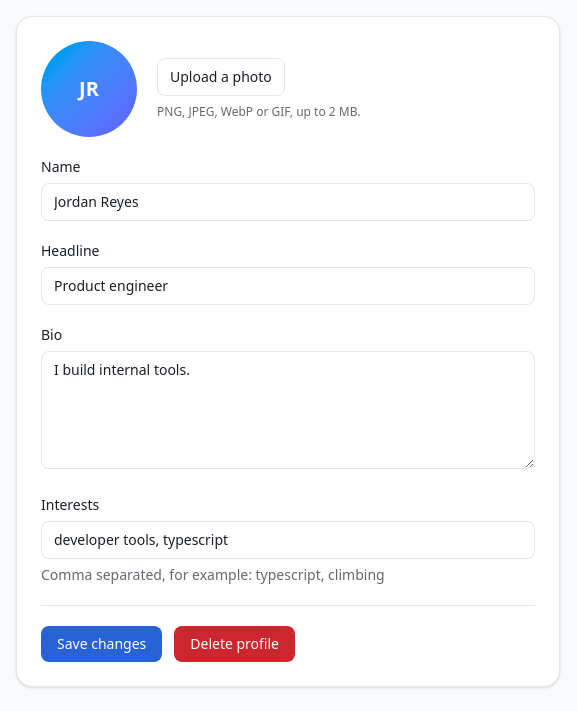
Test case: profile page › renders server-side validation against the right fields
The width and height of the screenshot is (577, 711).
(page scrolled)
Expected: the field showing "Jordan Reyes" is shown, [41, 183, 535, 221]
Click the button "Save changes": coordinates (102, 644) [41, 626, 162, 662]
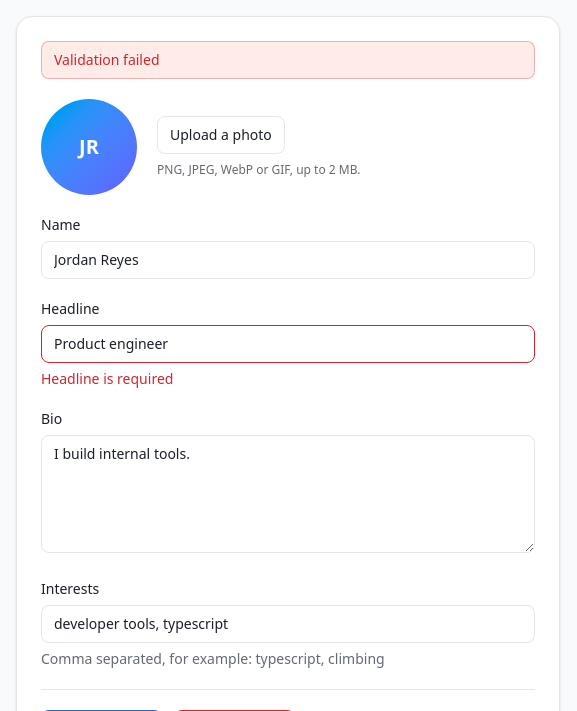
Expected: the text "Headline is required" is shown, [41, 369, 173, 388]
